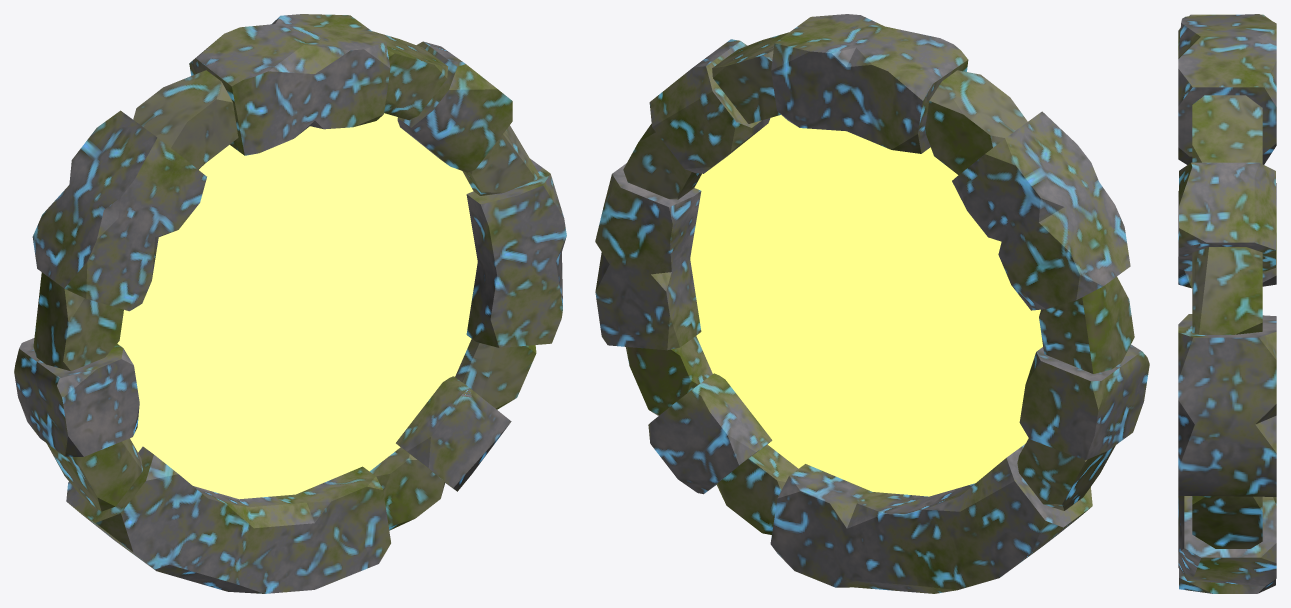
The model's file is portal.glb.
The picture shows the model from 3 angles, left to right: view 1: azimuth 30°, elevation 25°; view 2: azimuth 150°, elevation 25°; view 3: azimuth 270°, elevation 25°; orthographic projection.
Visible parts, largest first — view 1: BrickLarge_low, 円柱.001, BrickSmall_low; view 2: BrickLarge_low, 円柱.001, BrickSmall_low; view 3: BrickLarge_low, BrickSmall_low.
Part boxes in pixels (x1,y1,x2,y2): BrickLarge_low: (14,14,566,593); 円柱.001: (117,113,477,499); BrickSmall_low: (33,31,539,530); BrickLarge_low: (595,14,1149,593); 円柱.001: (690,115,1042,496); BrickSmall_low: (623,32,1134,534); BrickLarge_low: (1178,14,1276,593); BrickSmall_low: (1192,95,1262,548).
Bounding box in the file's own units: 2.66 × 2.68 × 0.4499.
3 materials, 2 textured.
